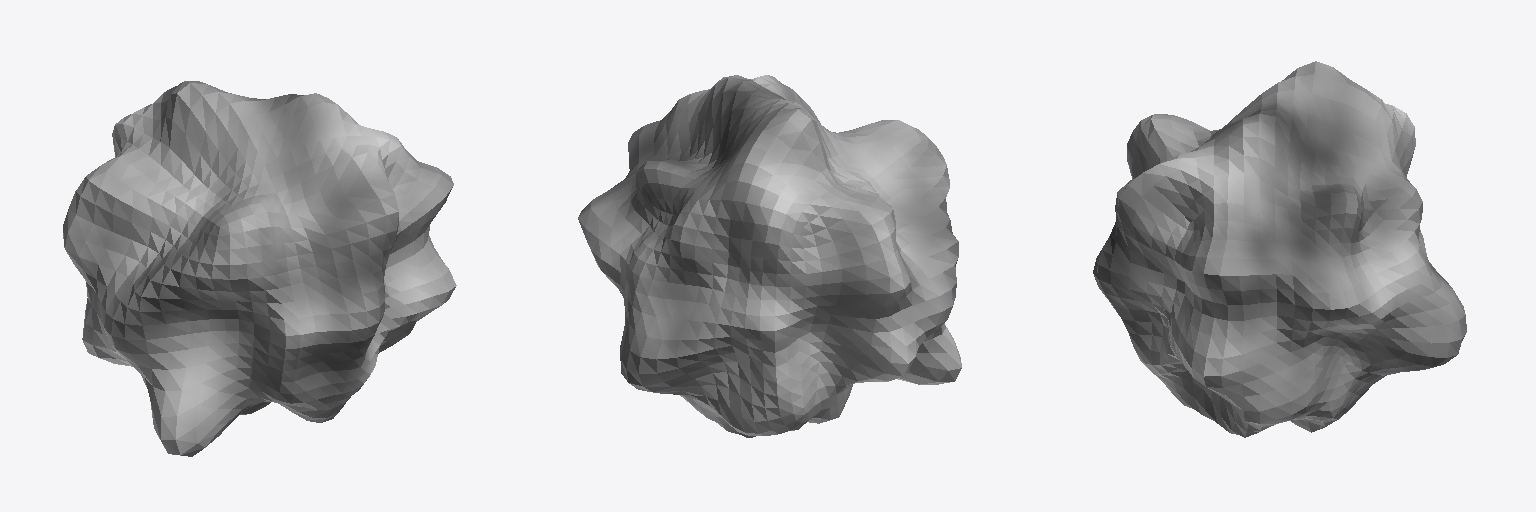
The picture shows the model from 3 angles: view 1: azimuth 30°, elevation 25°; view 2: azimuth 150°, elevation 25°; view 3: azimuth 270°, elevation 25°; orthographic projection.
Parts seen in each view (by area): view 1: Asteroid.001; view 2: Asteroid.001; view 3: Asteroid.001.
Part boxes in pixels (x1,y1,x2,y2): Asteroid.001: (63,81,456,456); Asteroid.001: (578,75,961,437); Asteroid.001: (1093,61,1466,437).
Size of the model in its own units: 3.34 by 3.32 by 3.28.
Materials: 1 (1 with a texture image).